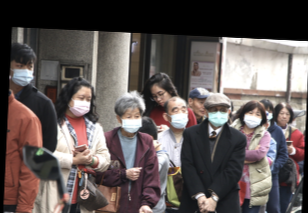with_mask: (10, 59, 34, 87), (69, 91, 92, 118), (120, 109, 142, 134), (169, 102, 189, 129), (207, 105, 229, 127), (242, 109, 263, 129), (263, 106, 274, 122)
without_mask: (149, 88, 170, 107), (274, 107, 292, 126), (194, 96, 206, 118)
